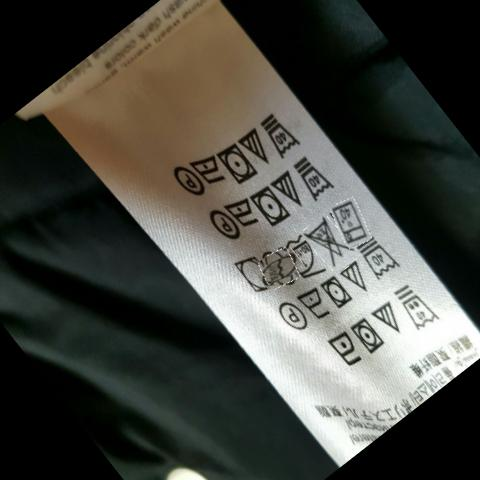40C: (396, 280, 438, 330), (362, 237, 400, 279), (299, 157, 338, 197), (338, 200, 368, 242), (267, 116, 299, 154)
dry_clean_any_solvent_except_trichloroethylene: (278, 300, 308, 336), (210, 210, 242, 242), (173, 166, 203, 198)
iron_low: (330, 330, 364, 368), (292, 242, 325, 279), (226, 197, 260, 230), (301, 288, 331, 317), (197, 154, 222, 187)
non_chlorine_bleach: (313, 221, 343, 252), (241, 128, 270, 159), (274, 169, 302, 201), (373, 300, 401, 330), (342, 262, 371, 289)
tumble_dry_low: (252, 185, 293, 227), (225, 144, 258, 187), (357, 318, 386, 352), (324, 277, 354, 309)
